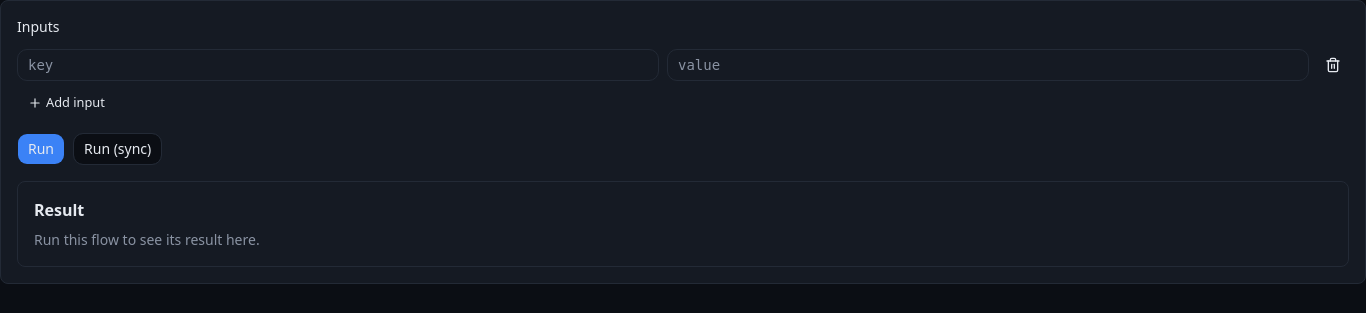
RunTrigger (S4 / D-04 / D-08) › secondary "Run (sync)" renders {outputs} into the RunResultPanel (ONE result surface, D-04)
Step 1. Click the button "Run (sync)" → (118, 149), box 73,133 -> 162,165
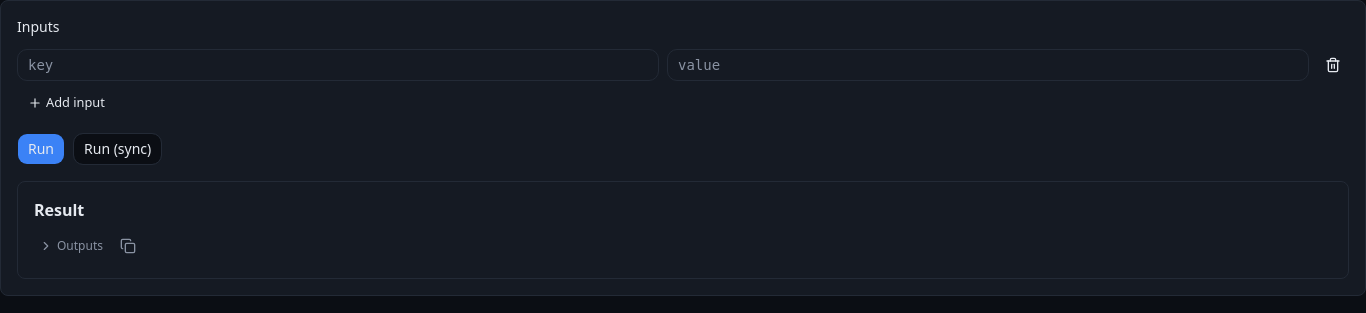
Check: the element showing "Outputs" is shown, box 34,230 -> 144,262
